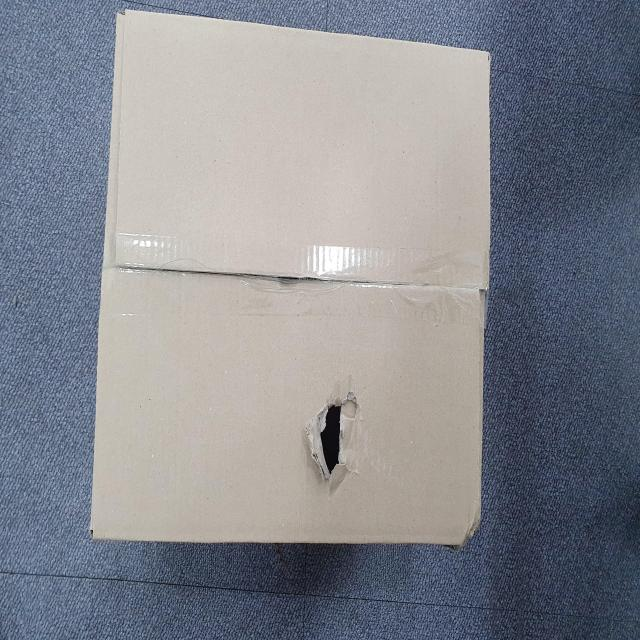damaged: (210, 498, 280, 606)
